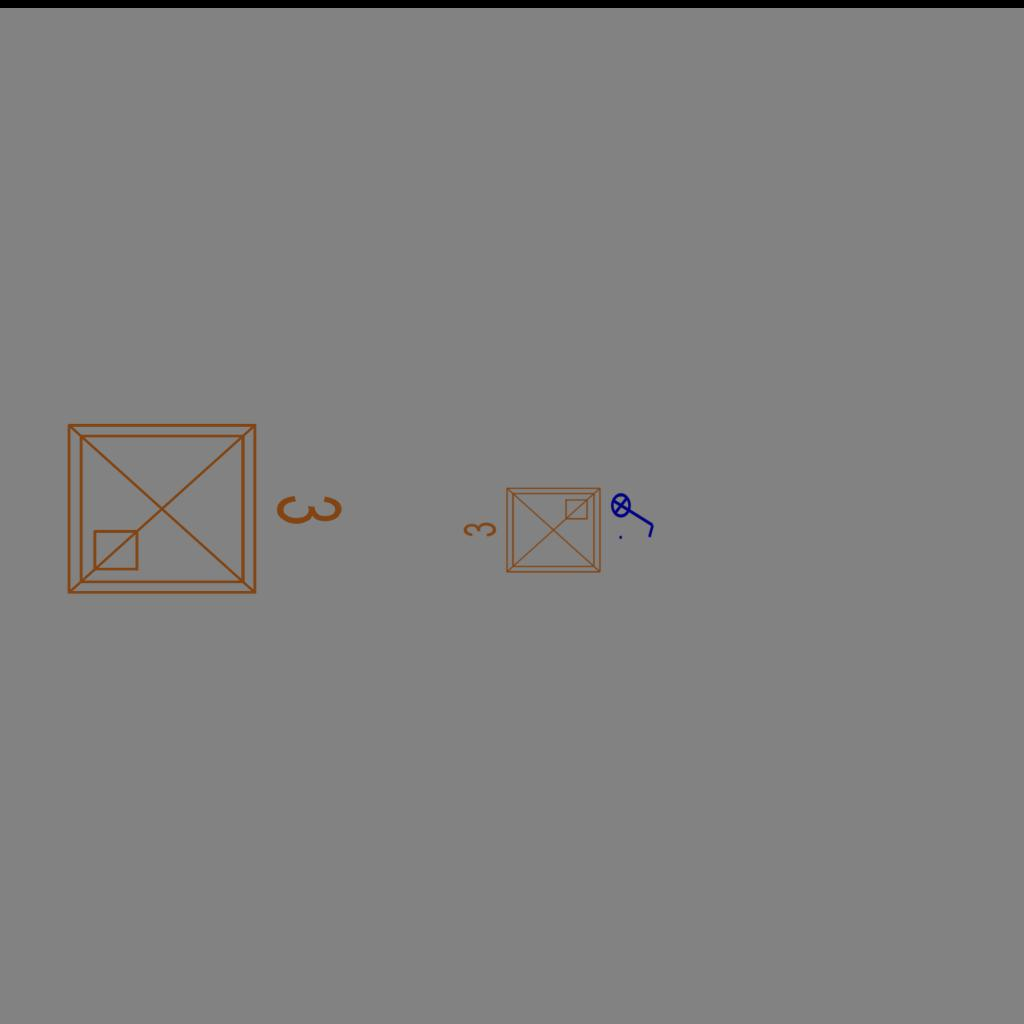Ausschalter_beleuchtet: (610, 486, 658, 542)
Einbaudownlights_LED_Konferenzraeume: (53, 401, 353, 609), (458, 480, 608, 584)
